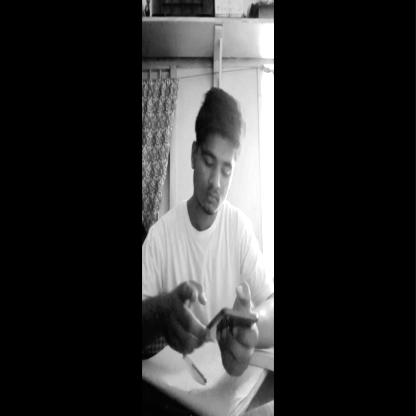Normal: (191, 89, 241, 216)
